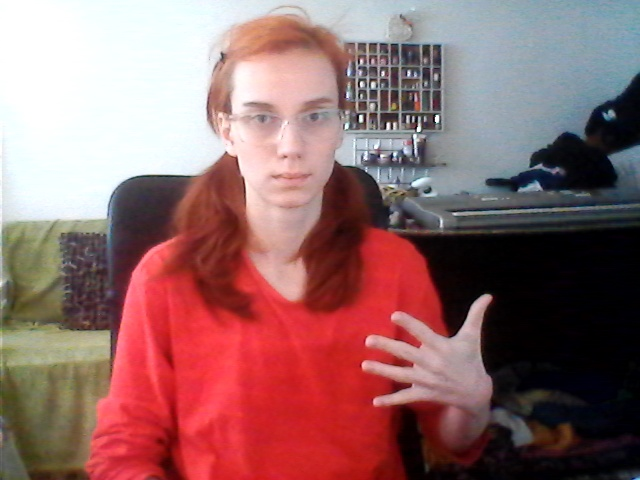pat: (359, 288, 504, 416)
